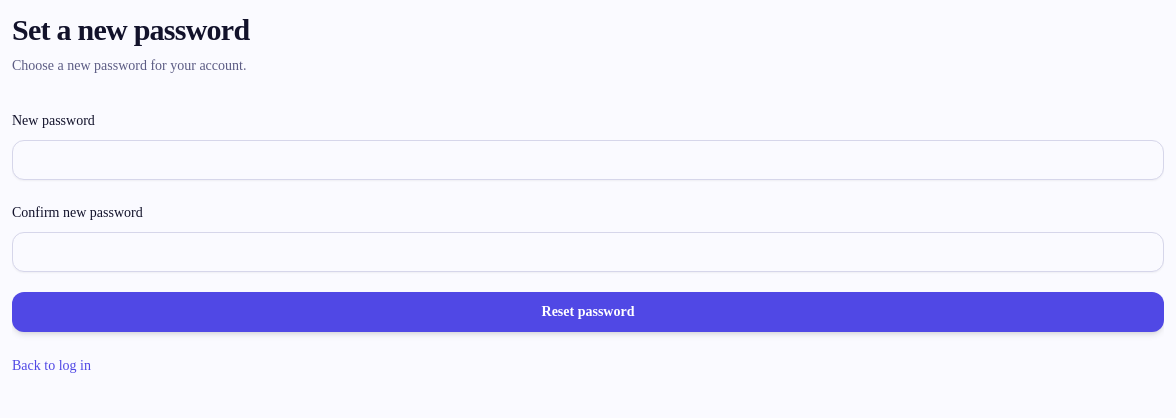
Test case: reset password form › requires matching passwords before submitting
The width and height of the screenshot is (1176, 418).
Type "StrongPass123!" into the password field labelled "New password" at (588, 160), box x1=12 y1=140 x2=1164 y2=180
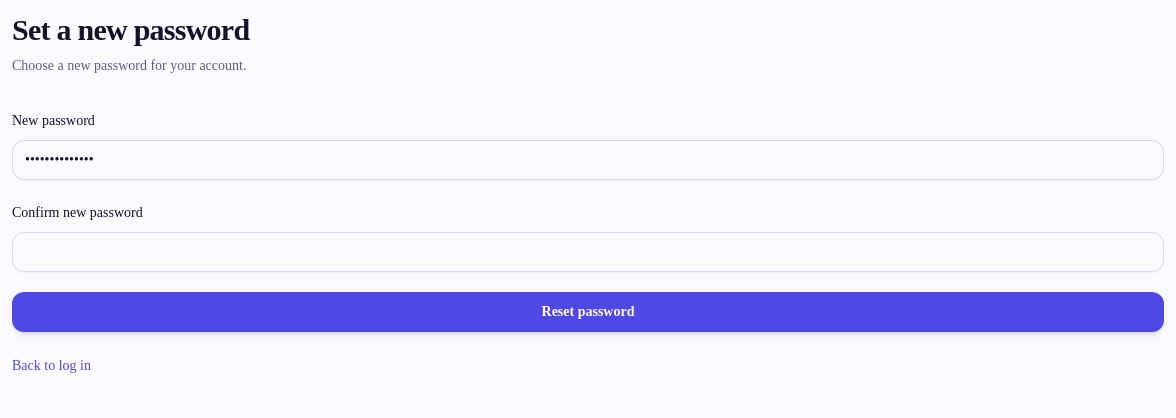
Type "DifferentPass123!" into the password field labelled "Confirm new password" at (588, 252), box x1=12 y1=232 x2=1164 y2=272
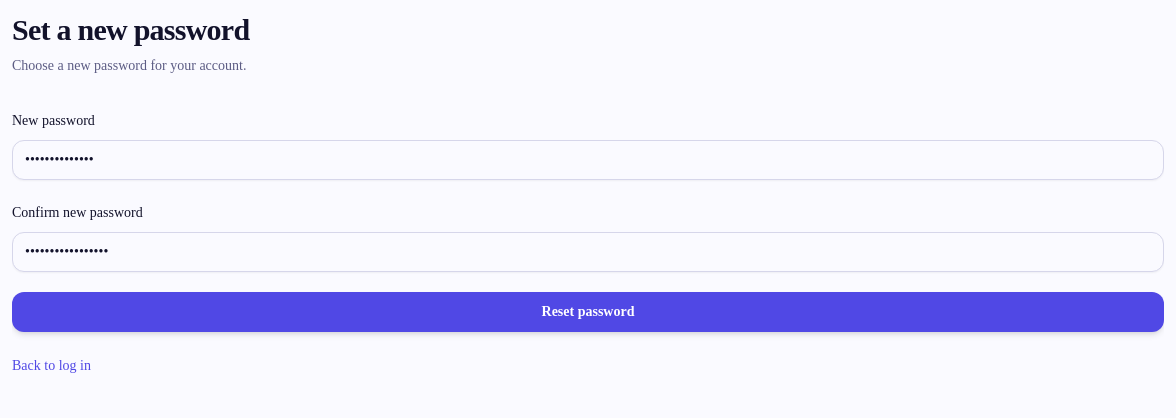
Click the button "Reset password" at (588, 312), box x1=12 y1=292 x2=1164 y2=332
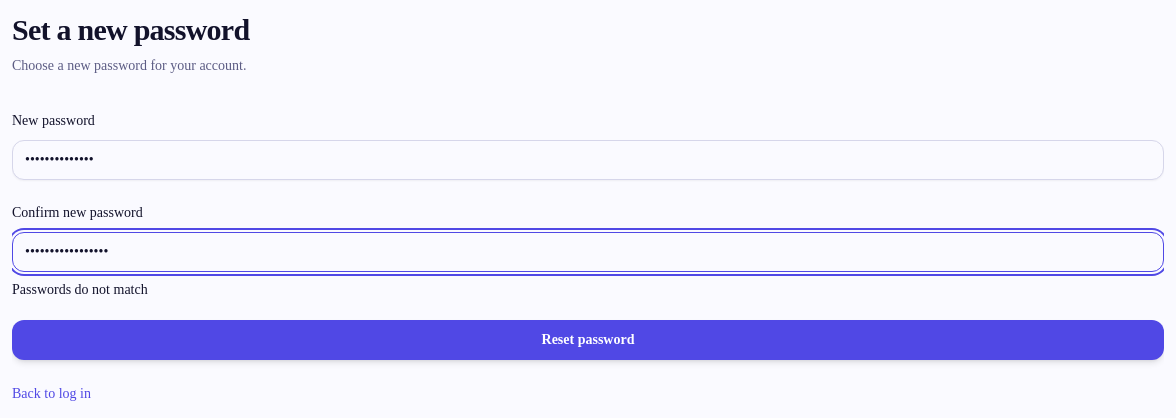
Result: the text "Passwords do not match" is shown at x1=12 y1=282 x2=148 y2=297
